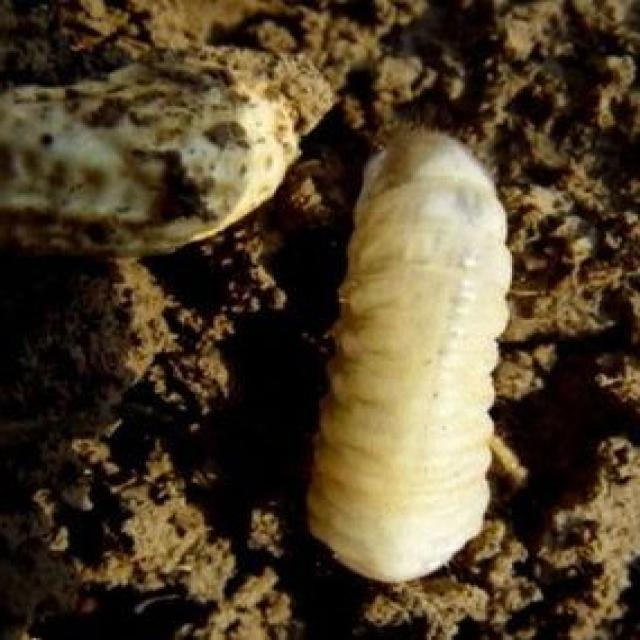grub: (296, 119, 519, 603)
